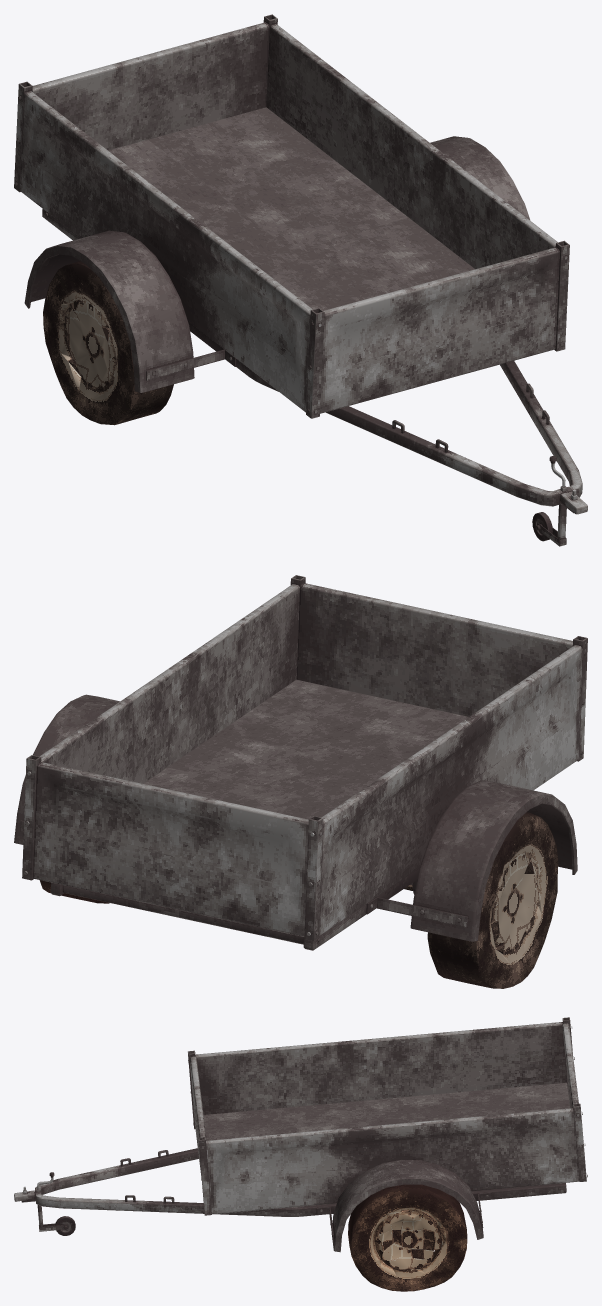
File: trailer.glb
3 renders of one model, top to bottom at view 1: azimuth 30°, elevation 25°; view 2: azimuth 150°, elevation 25°; view 3: azimuth 270°, elevation 25°, orthographic. The views are drawn at different scales.
Visible parts, largest first — view 1: body, wheel_r; view 2: body, wheel_r; view 3: body, wheel_l.
Part boxes in pixels (x1,y1,x2,y2): body: [14, 14, 587, 546]; wheel_r: [43, 261, 173, 425]; body: [14, 575, 587, 950]; wheel_r: [404, 812, 558, 988]; body: [14, 1017, 587, 1252]; wheel_l: [348, 1184, 467, 1291].
Bounding box in the file's own units: 1.67 × 0.8765 × 2.81.
Materials: 3 (3 with a texture image).
